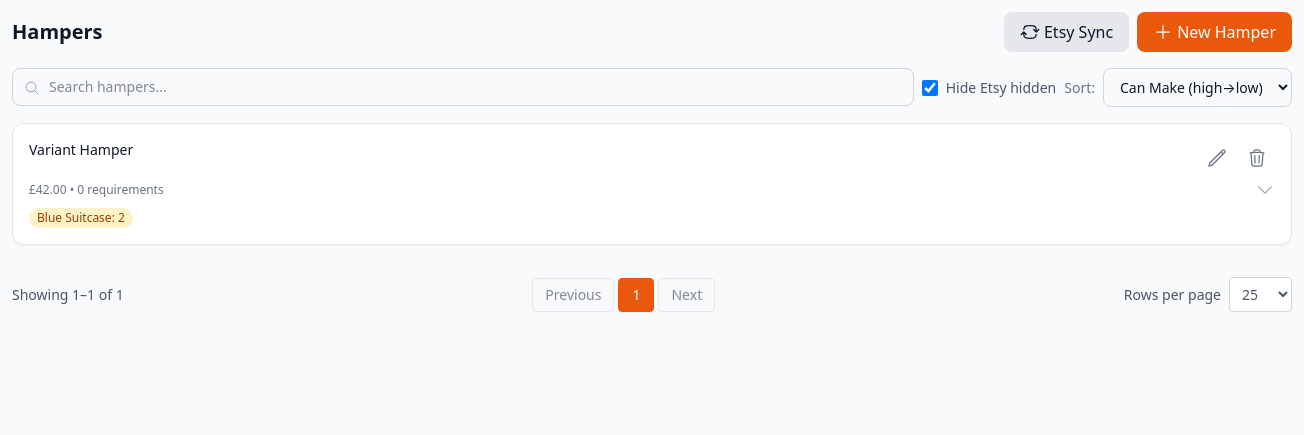
Test: Hampers › hamper list › hides Etsy-disabled hampers and variants by default with a toggle to show them
Expected: the text "Variant Hamper" is shown, [29,140,133,160]
Expected: the text "Blue Suitcase: 2" is shown, [29,208,133,228]
Step 1. Click the checkbox labelled "Hide Etsy hidden" → (930, 88), box [922,80,938,96]
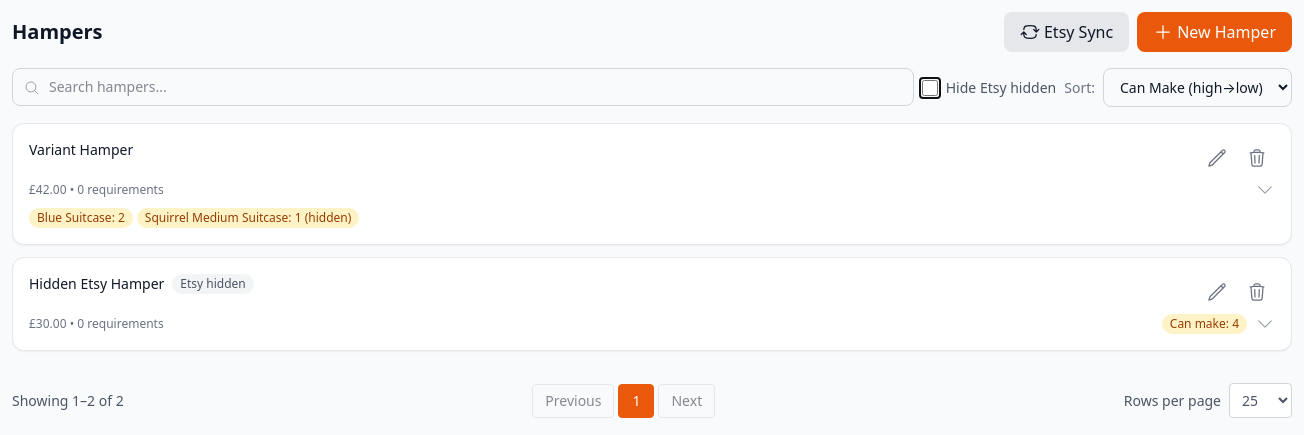
Expected: the text "Squirrel Medium Suitcase: 1 (hidden)" is shown, [137,208,359,228]
Expected: the text "Hidden Etsy Hamper" is shown, [29,274,164,294]
